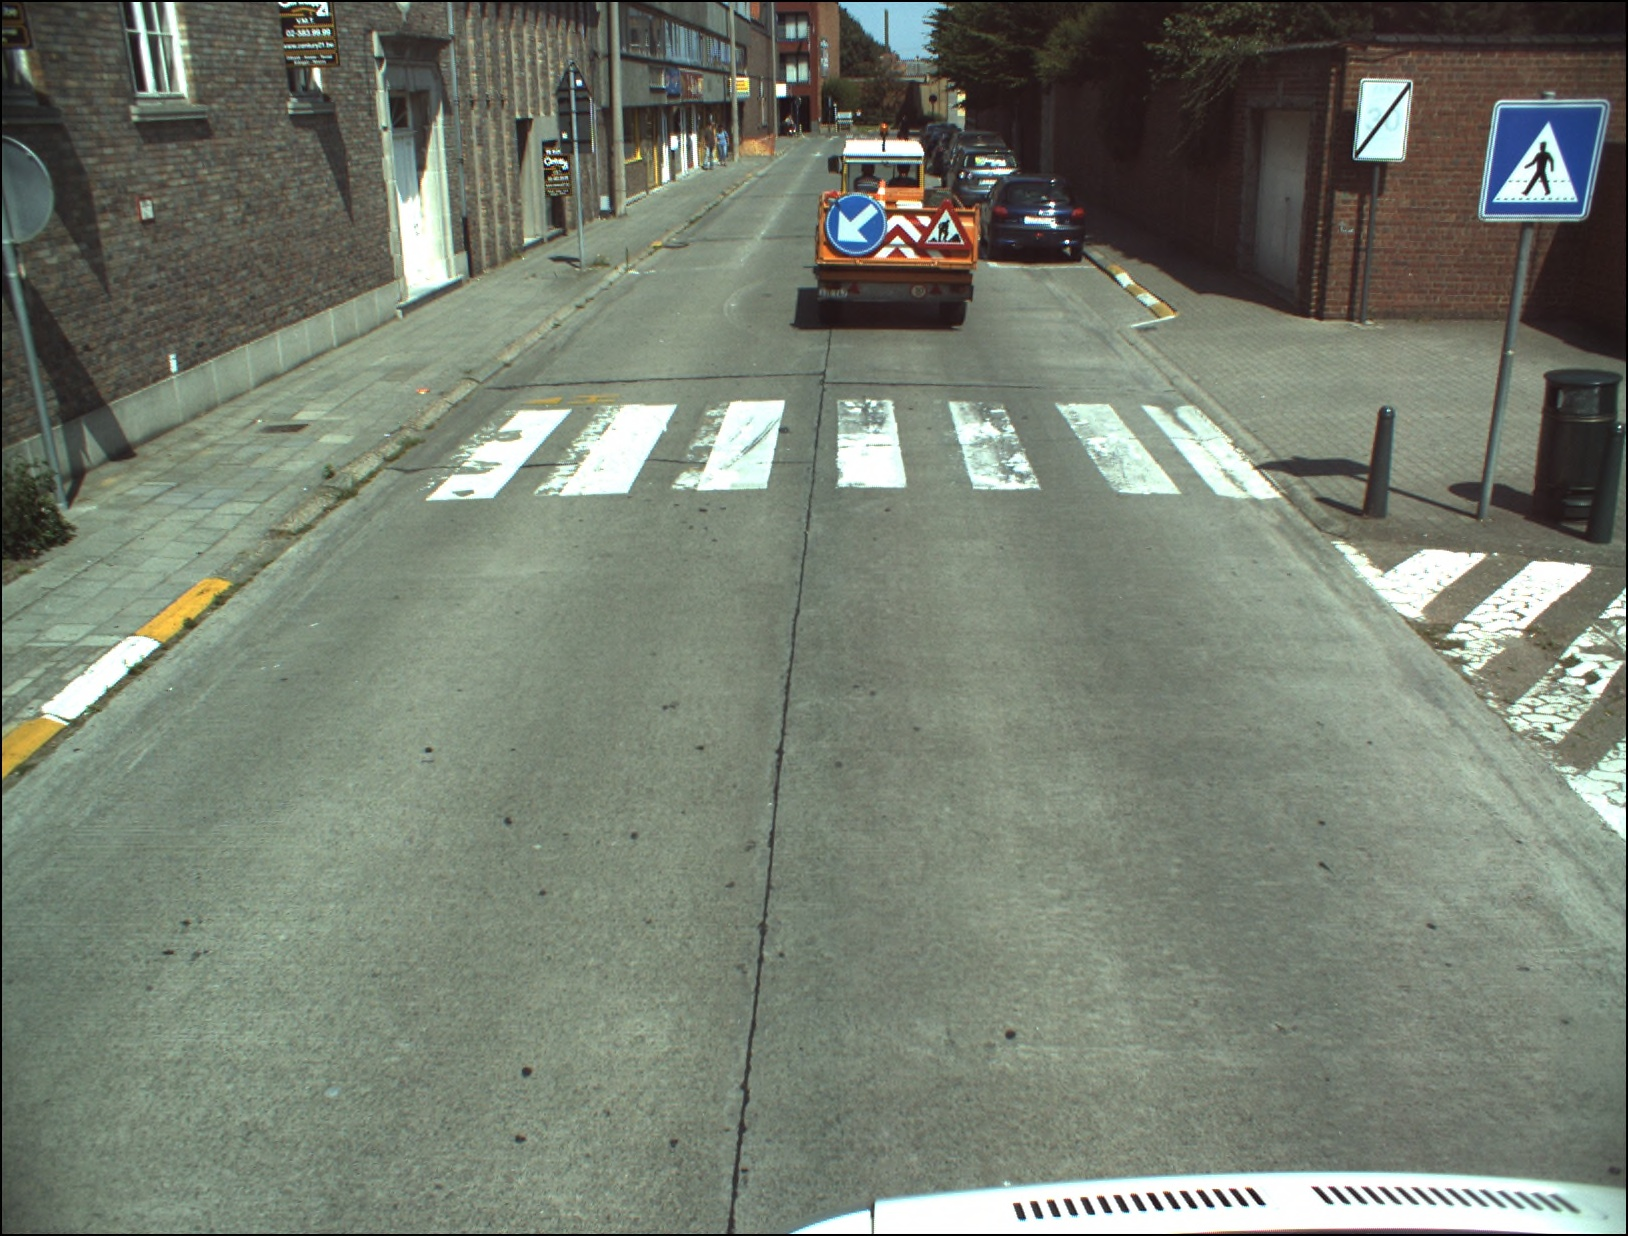construction: (917, 202, 972, 250)
passleft: (825, 192, 888, 254)
pedestrian: (1478, 101, 1606, 224)
